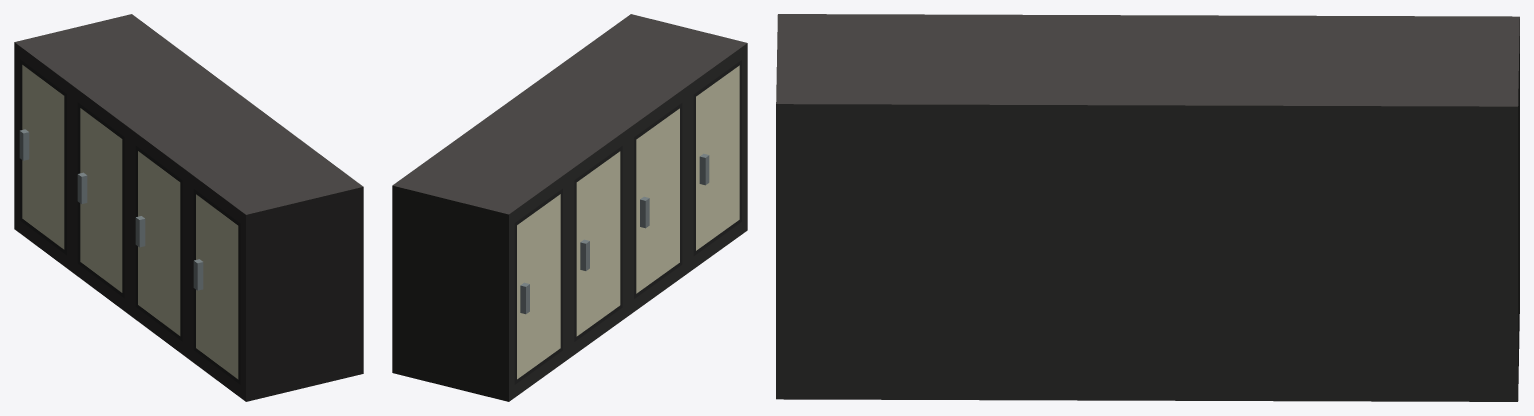
The model's file is SM_Prop_Cabinets_modified_closed.fbx.
3 views of the same model, side by side, from view 1: azimuth 30°, elevation 25°; view 2: azimuth 150°, elevation 25°; view 3: azimuth 270°, elevation 25° (orthographic). The views are drawn at different scales.
Visible parts, largest first — view 1: SM_Prop_Cabinets_modified_colors; view 2: SM_Prop_Cabinets_modified_colors; view 3: SM_Prop_Cabinets_modified_colors.
Part boxes in pixels (left/top/right/bottom): SM_Prop_Cabinets_modified_colors: left=14, top=14, right=363, bottom=401; SM_Prop_Cabinets_modified_colors: left=392, top=14, right=747, bottom=401; SM_Prop_Cabinets_modified_colors: left=776, top=14, right=1519, bottom=401.
Bounding box in the file's own units: 124 × 176 × 403.
Materials: 1 (1 with a texture image).
